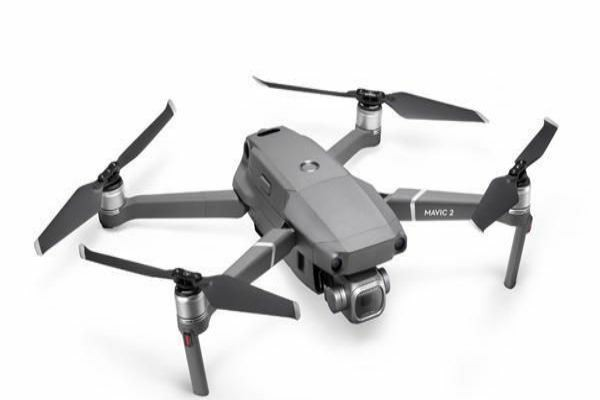maybay_khongnguoilai: (46, 75, 535, 365)
